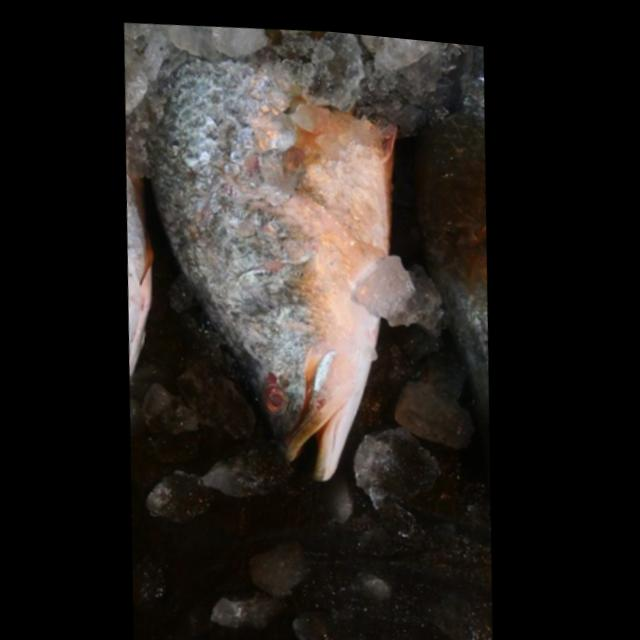Seabass: (130, 29, 417, 499)
